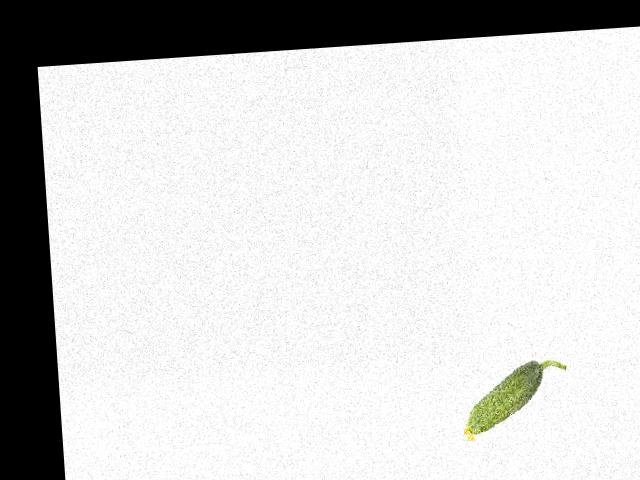cucumber: (458, 358, 570, 443)
